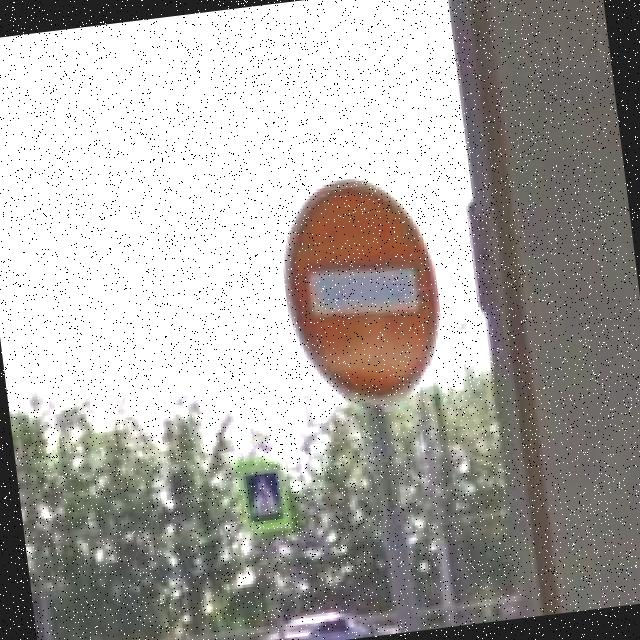Przejscie dla pieszych: (235, 456, 292, 537)
Zakaz wjazdu: (270, 163, 453, 420)
